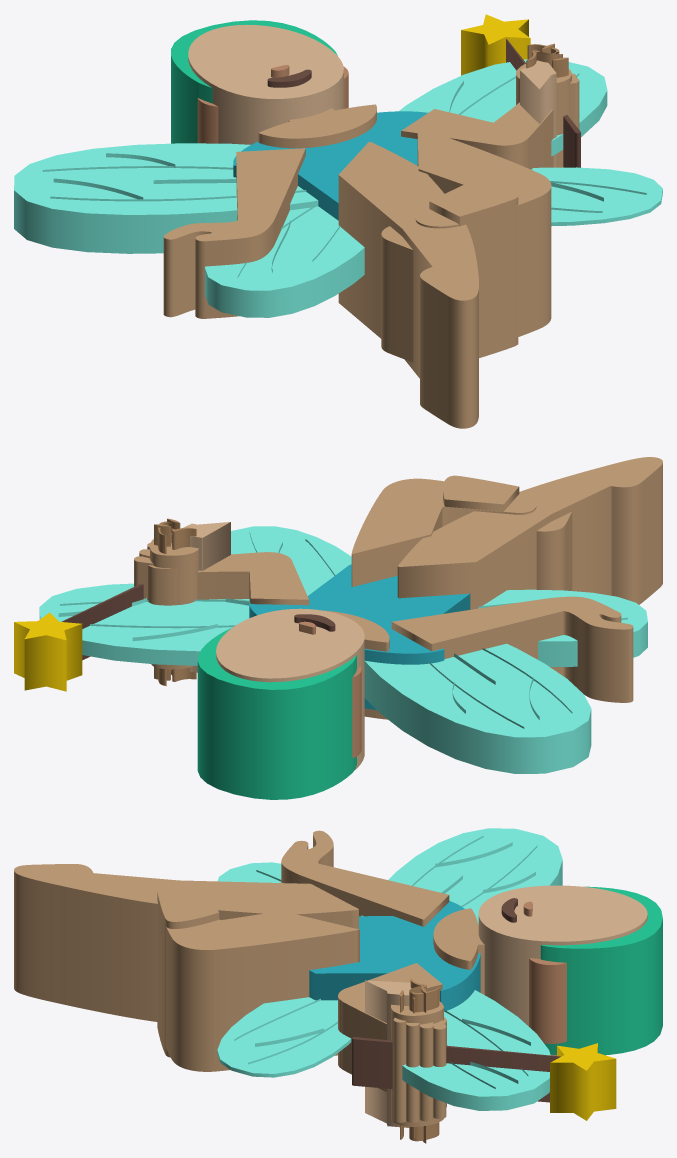
Rendered from emoji_u1f9da_1f3fc_200d_2642.glb.
3 renders of one model, top to bottom at view 1: azimuth 30°, elevation 25°; view 2: azimuth 150°, elevation 25°; view 3: azimuth 270°, elevation 25°, orthographic. The views are drawn at different scales.
Visible parts, largest first — view 1: emoji_u1f9da_1f3fc_200d_2642; view 2: emoji_u1f9da_1f3fc_200d_2642; view 3: emoji_u1f9da_1f3fc_200d_2642.
Part boxes in pixels (x1,y1,x2,y2): emoji_u1f9da_1f3fc_200d_2642: (14, 14, 662, 428); emoji_u1f9da_1f3fc_200d_2642: (14, 457, 662, 799); emoji_u1f9da_1f3fc_200d_2642: (14, 828, 662, 1143).
Size of the model in its own units: 0.0309 by 0.0084 by 0.0328.
